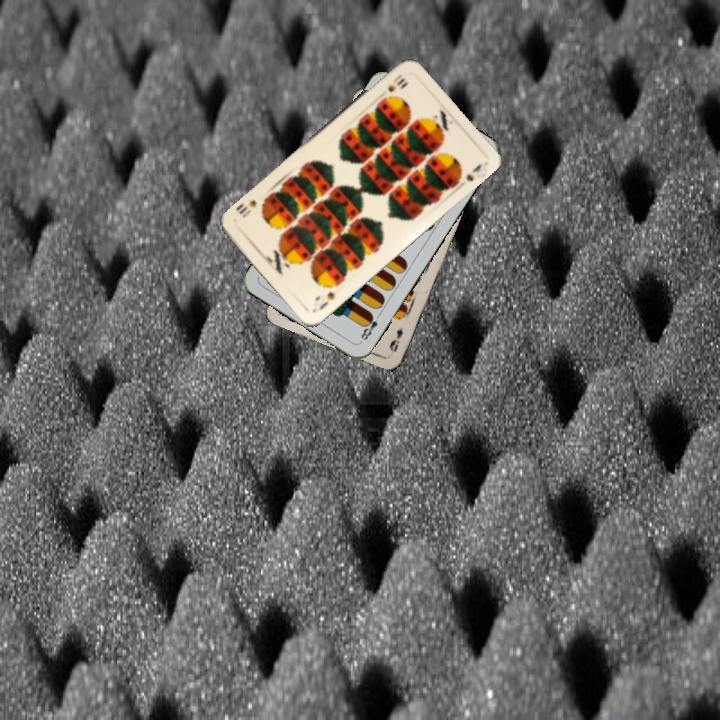E8: (356, 309, 384, 345)
E9: (385, 324, 405, 356)
S10: (383, 70, 408, 95), (315, 288, 337, 313)
